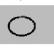no answer: (5, 14, 38, 38)
